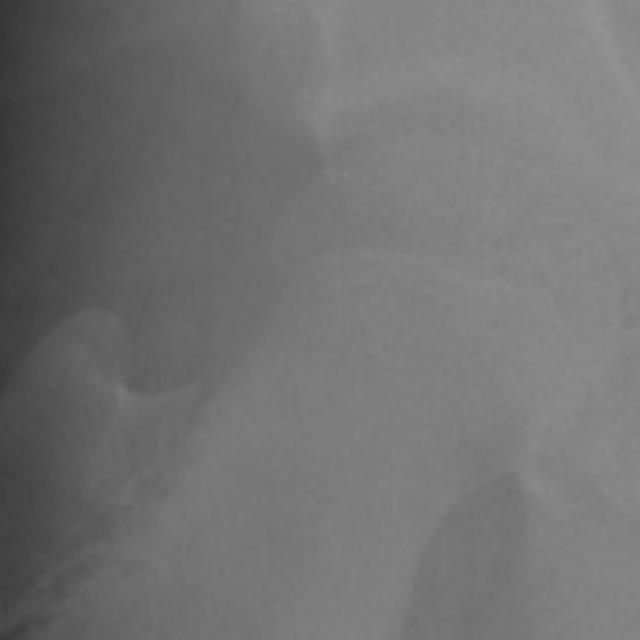Fitted_femural_head: (384, 133, 432, 384)
